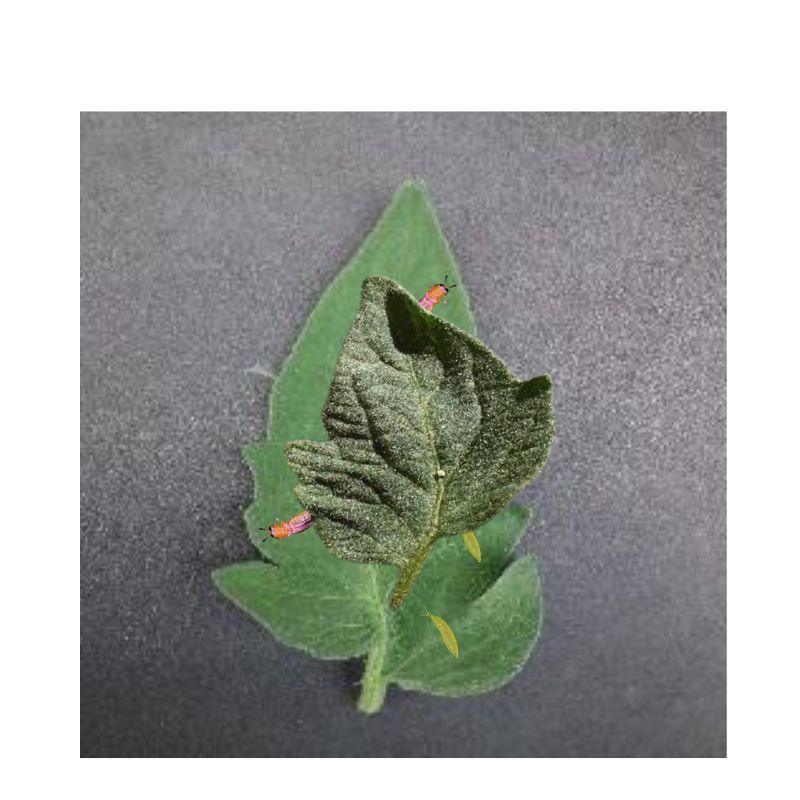thrips: (254, 507, 319, 540), (418, 611, 459, 660), (412, 274, 463, 312), (459, 527, 485, 563)
